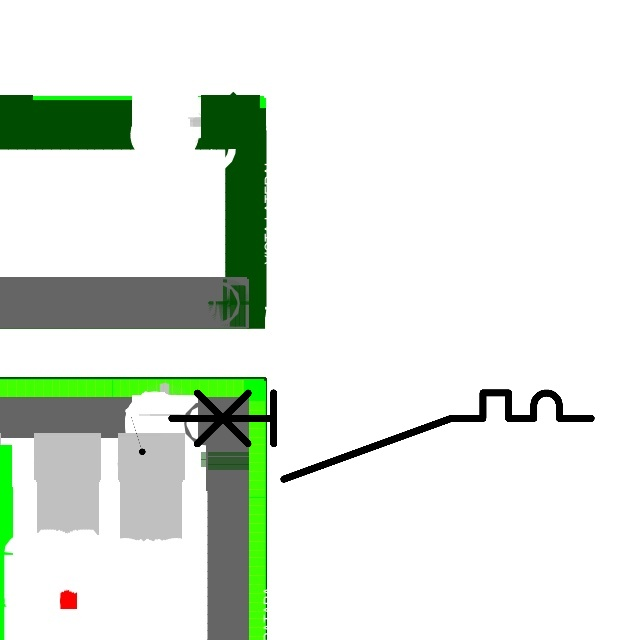interruptor_termomagnetico: (160, 382, 601, 490)
